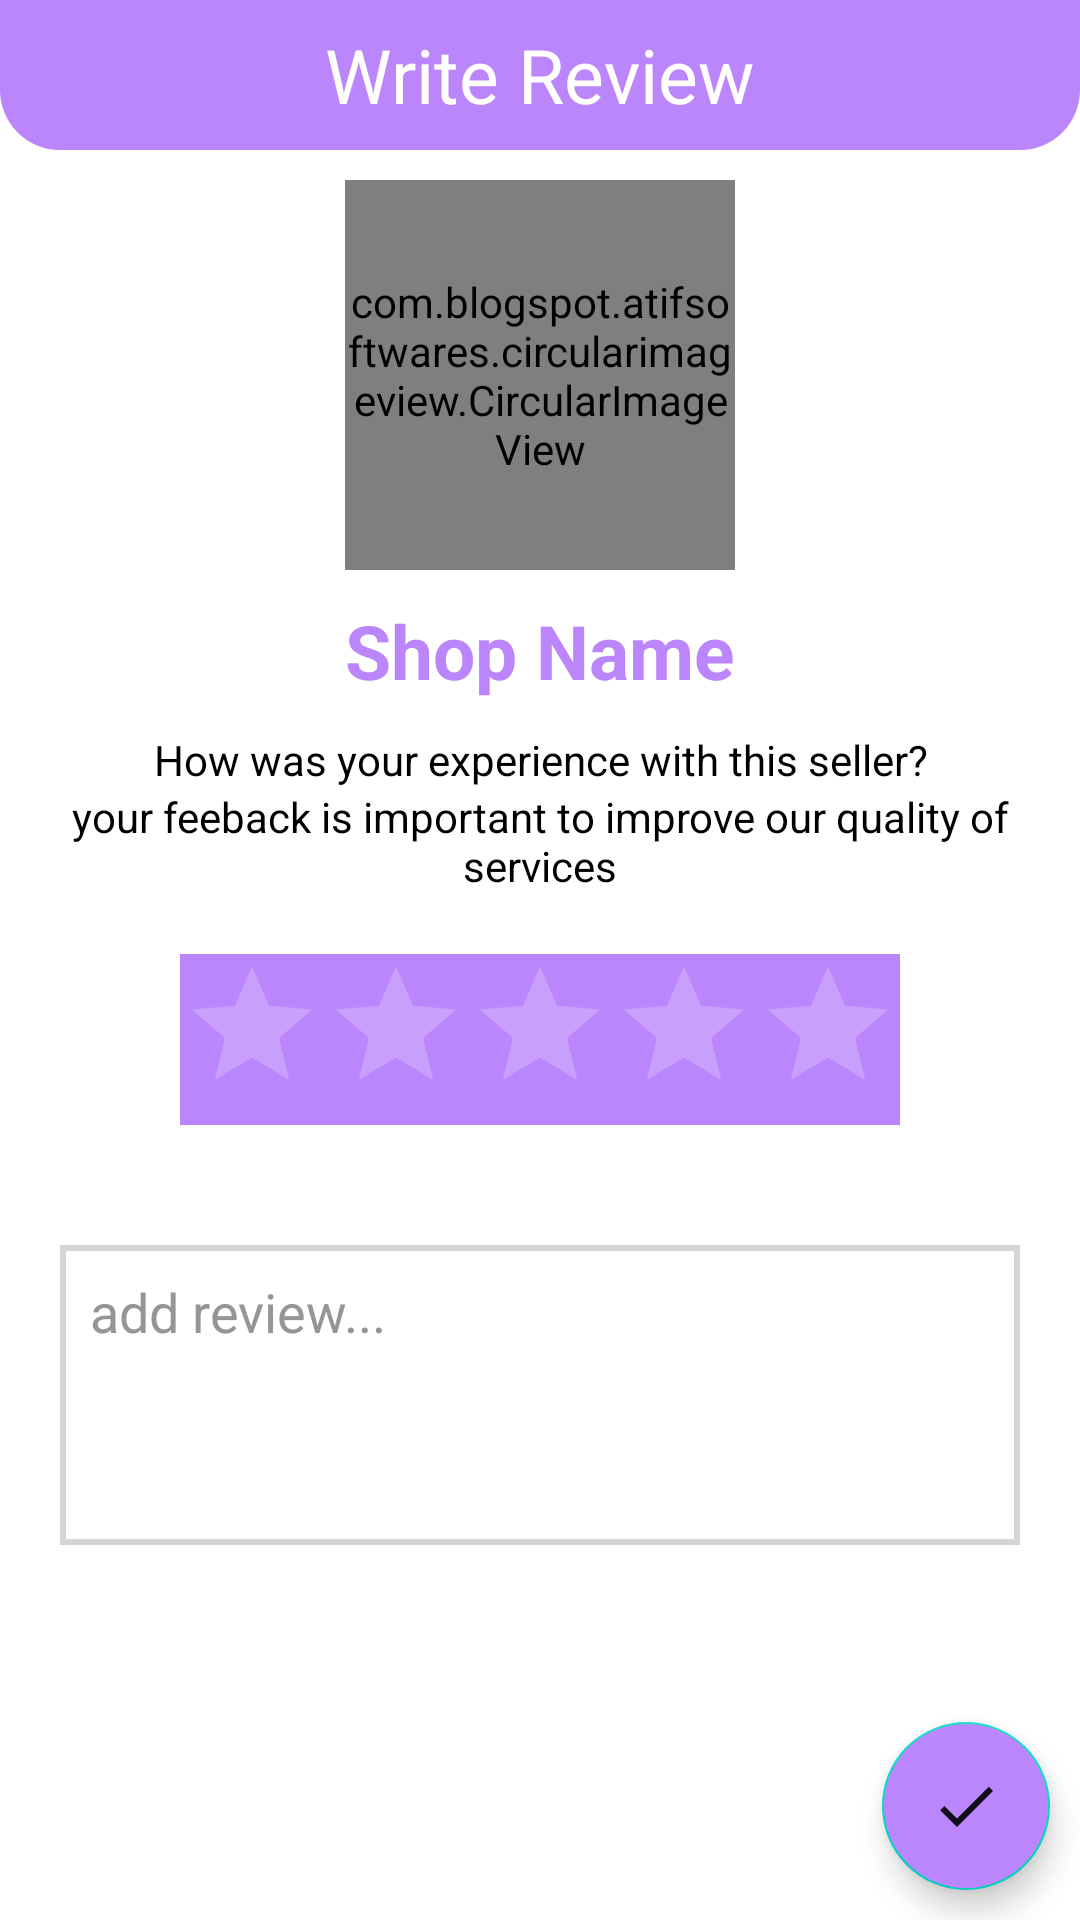

Named icons in this screenshot (1080w x 1920h) and their centers, [x,y]:
done: [966,1806]
